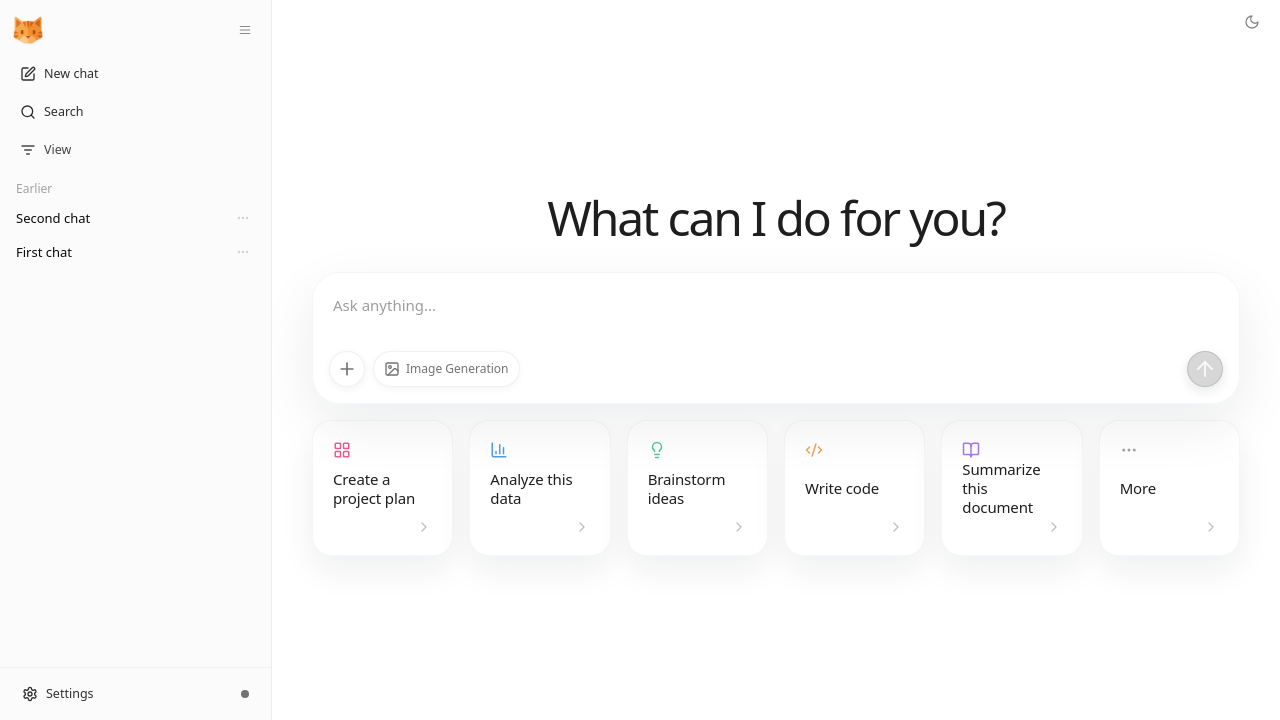
Test: App layout › returns from settings to the blank start page when no session was active
What coordinates should you click on to do the following:
click the button "New chat"
I would click on:
 (136, 74)
Its box is [8,58,263,90].
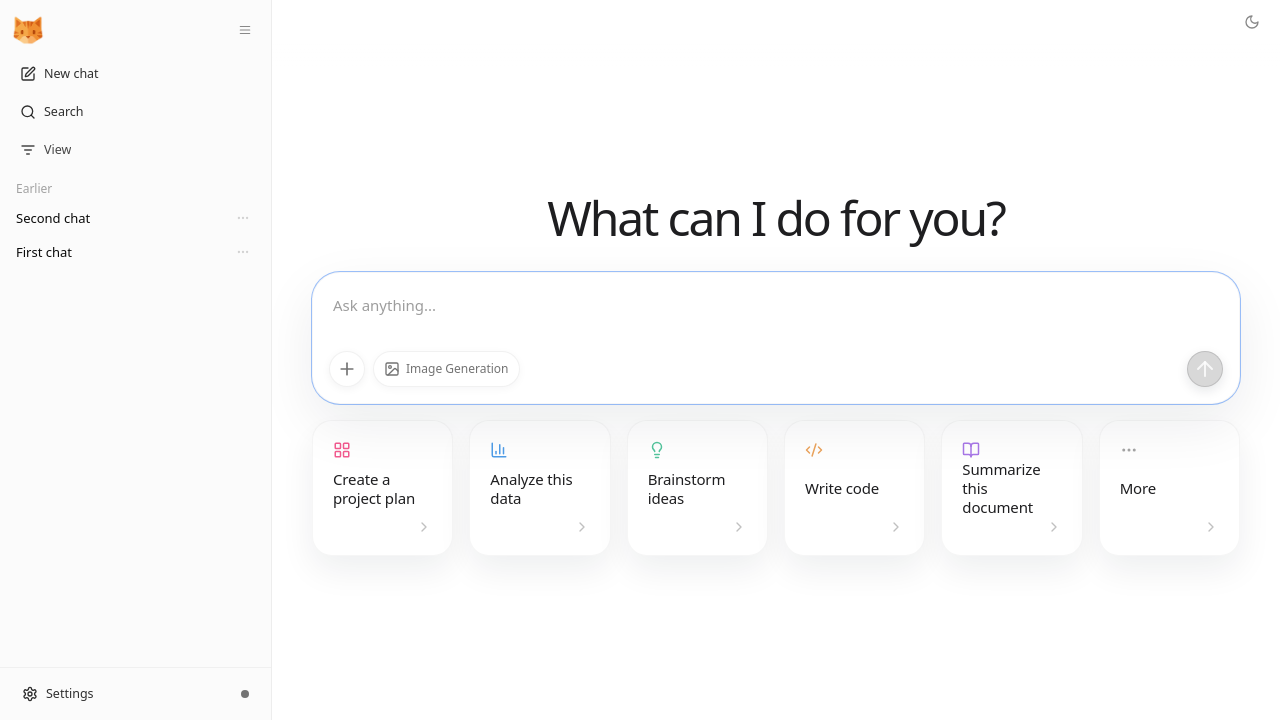
What coordinates should you click on to do the following:
click the button "Settings"
I would click on:
 (118, 694)
Its box is [10,678,225,710].
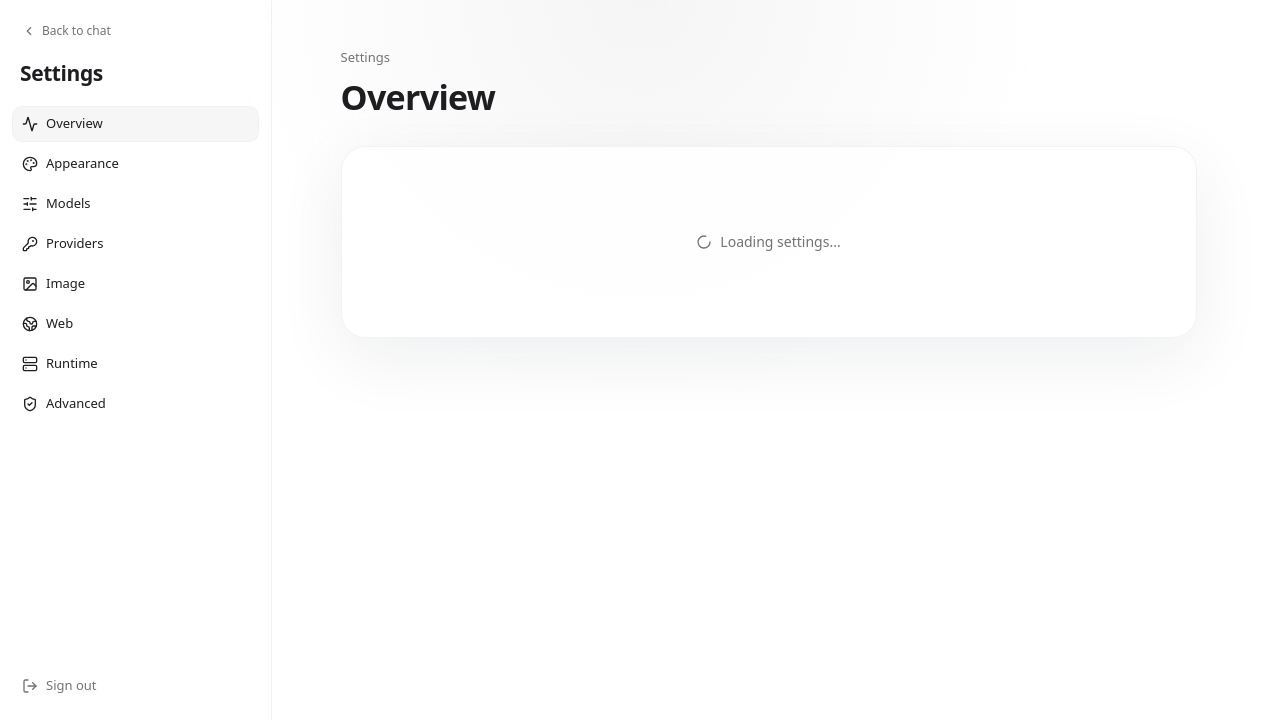
expect the heading "Overview" is shown: met, box [340,74,495,120]
What coordinates should you click on to do the following:
click the button "Back to chat"
I would click on:
 (66, 31)
Its box is [12,16,121,46].
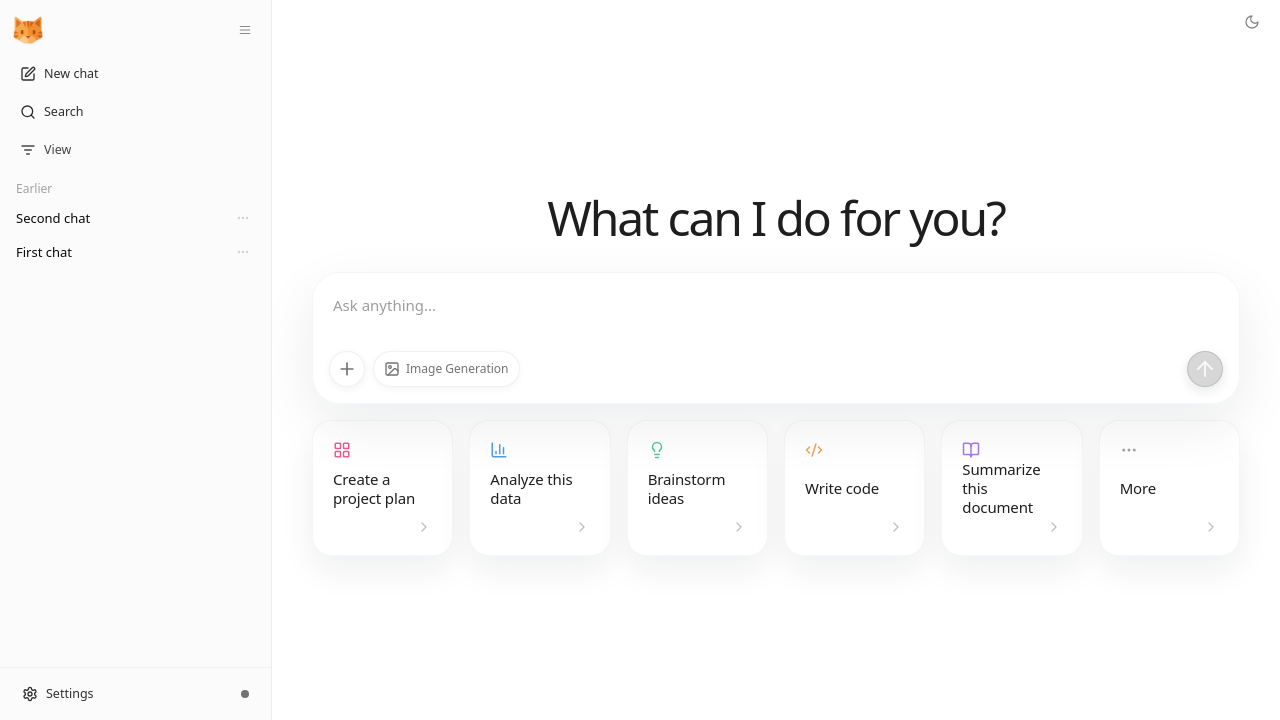
expect the heading "What can I do for you?" is shown: met, box [547,188,1005,248]
